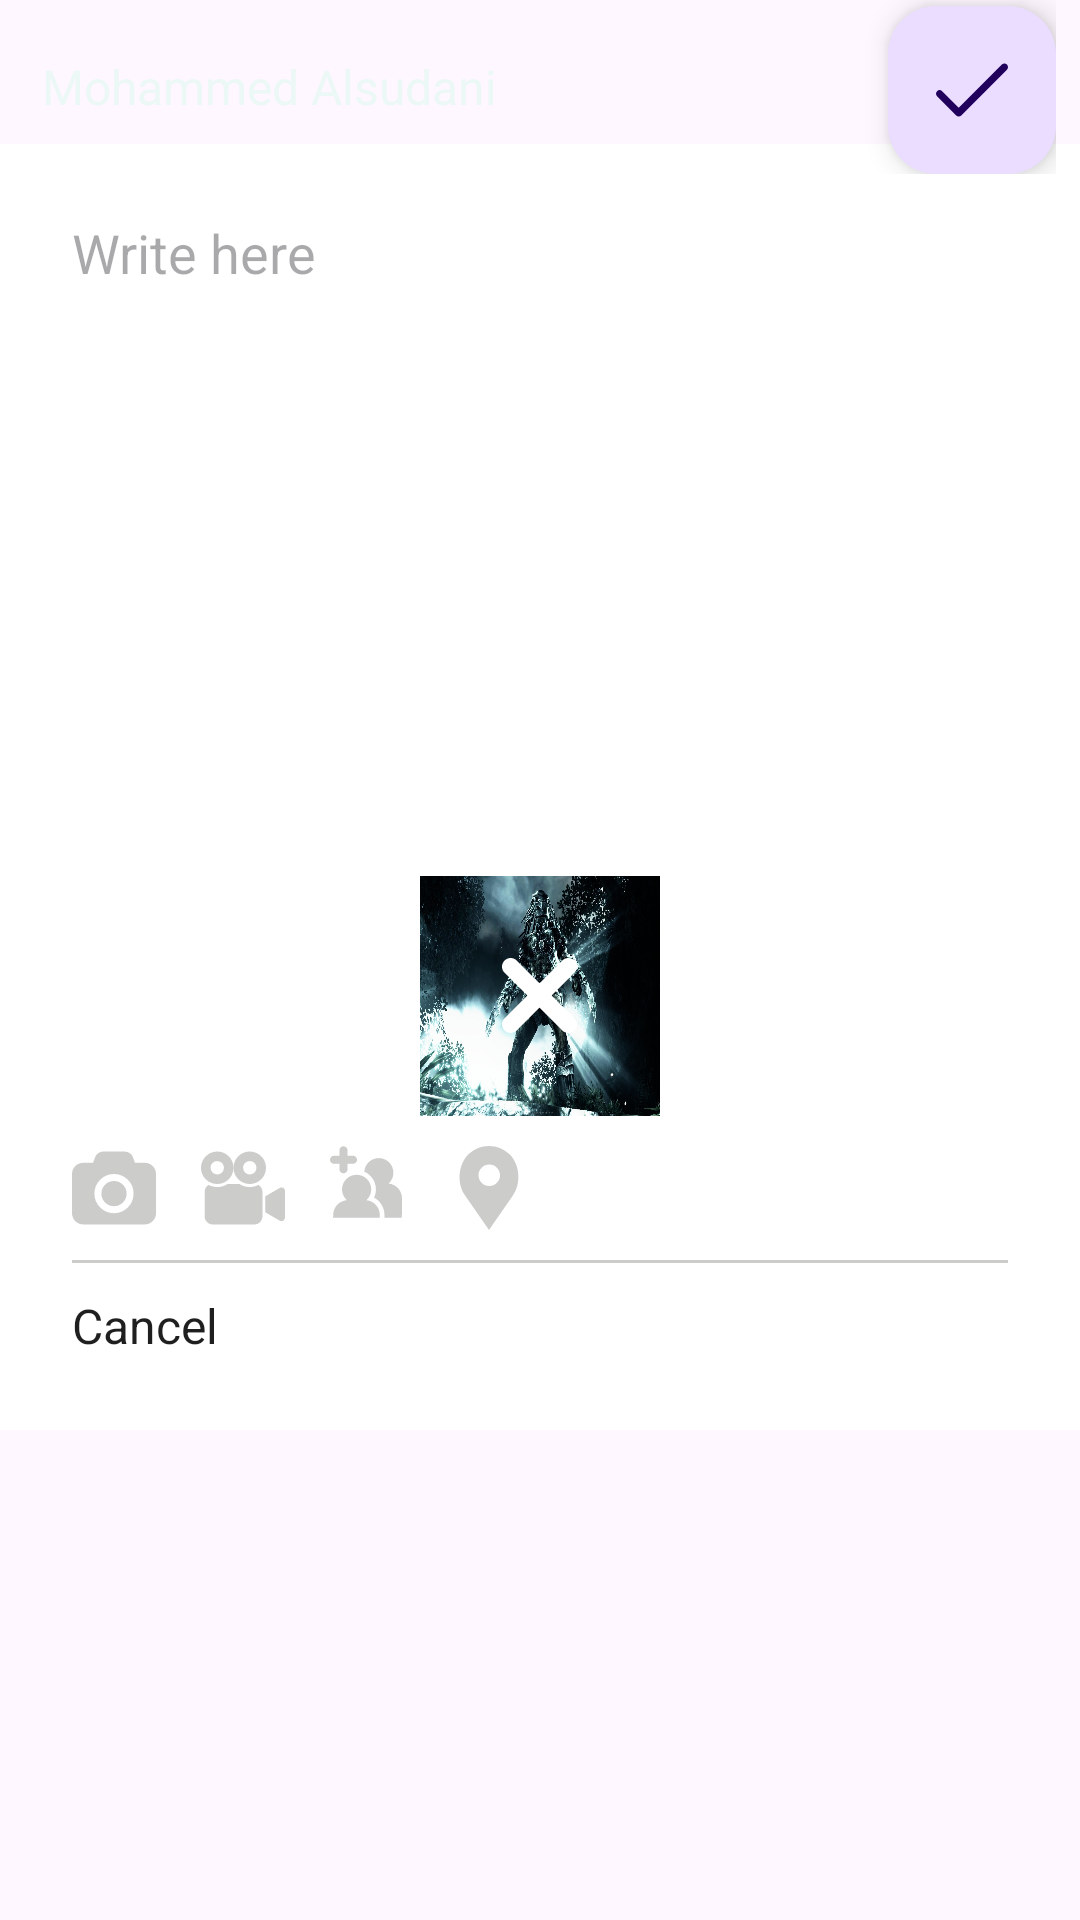

Icons on this 1080*1920 Android screen, each with the point to tap as (x,y):
add friend: (366,1182)
checkmark: (972,90)
photo: (114,1188)
video camera: (243,1188)
